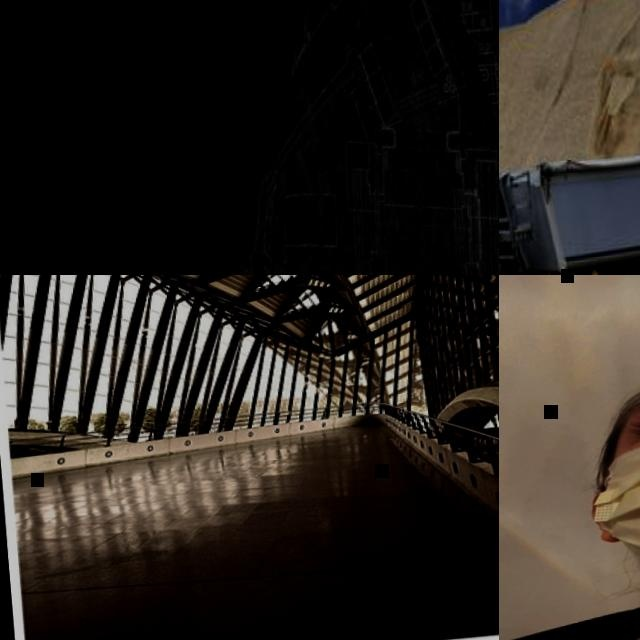Mask: (590, 385, 640, 599)
Person: (499, 327, 640, 640)
machinery: (499, 109, 640, 275)
